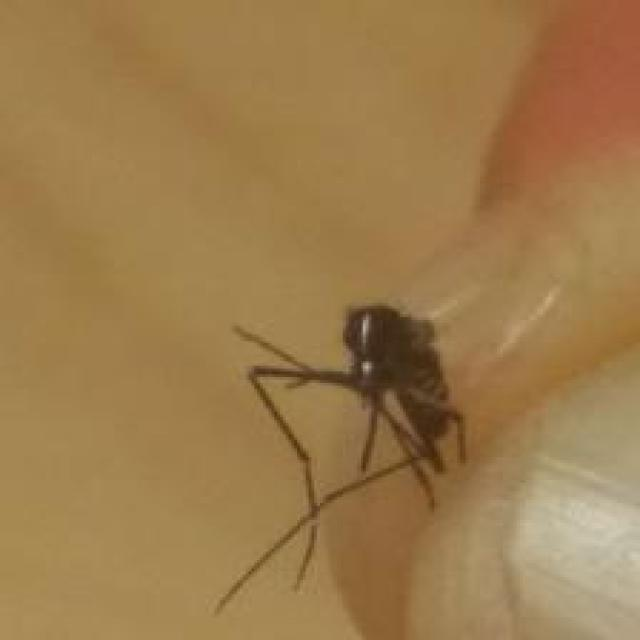Aedes albopictus: (212, 300, 472, 614)
